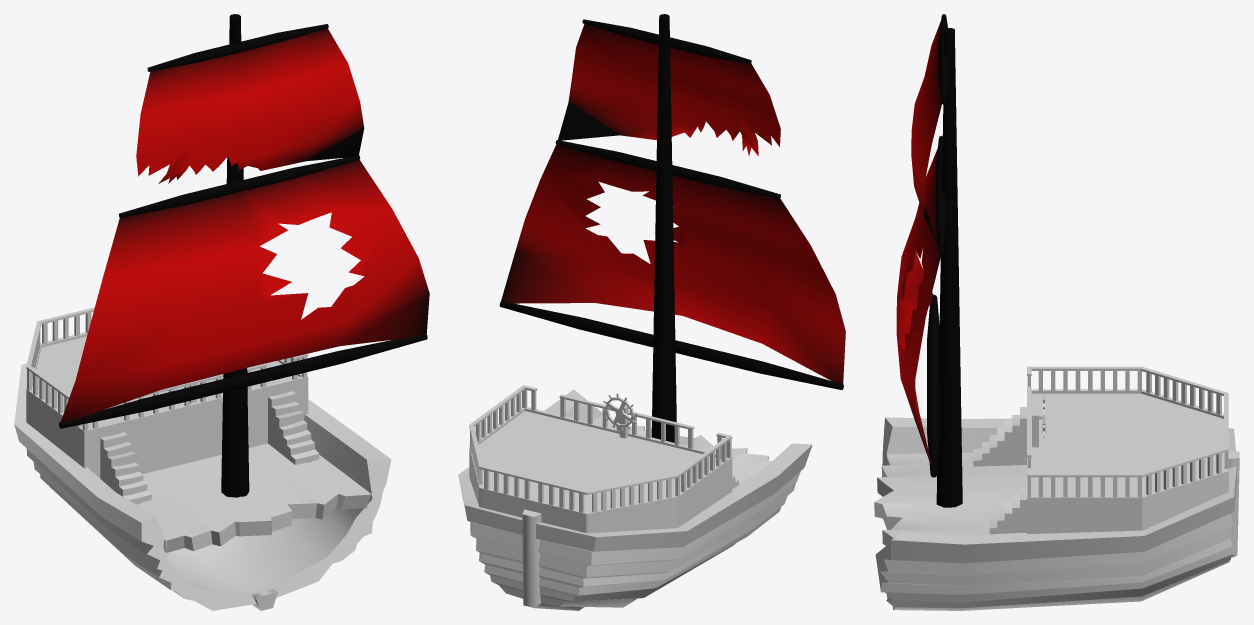
File: Ship_Back.fbx
3 views of the same model, side by side, from view 1: azimuth 30°, elevation 25°; view 2: azimuth 150°, elevation 25°; view 3: azimuth 270°, elevation 25° (orthographic). The views are drawn at different scales.
Parts seen in each view (by area): view 1: Mast_Back, Ship_Back; view 2: Mast_Back, Ship_Back; view 3: Ship_Back, Mast_Back.
Part boxes in pixels (<box>): Mast_Back: <box>59,14,429,497</box>; Ship_Back: <box>14,307,391,610</box>; Mast_Back: <box>499,14,845,442</box>; Ship_Back: <box>458,385,812,610</box>; Ship_Back: <box>874,366,1239,610</box>; Mast_Back: <box>896,14,962,507</box>.
Size of the model in its own units: 4154 by 6178 by 3609.
